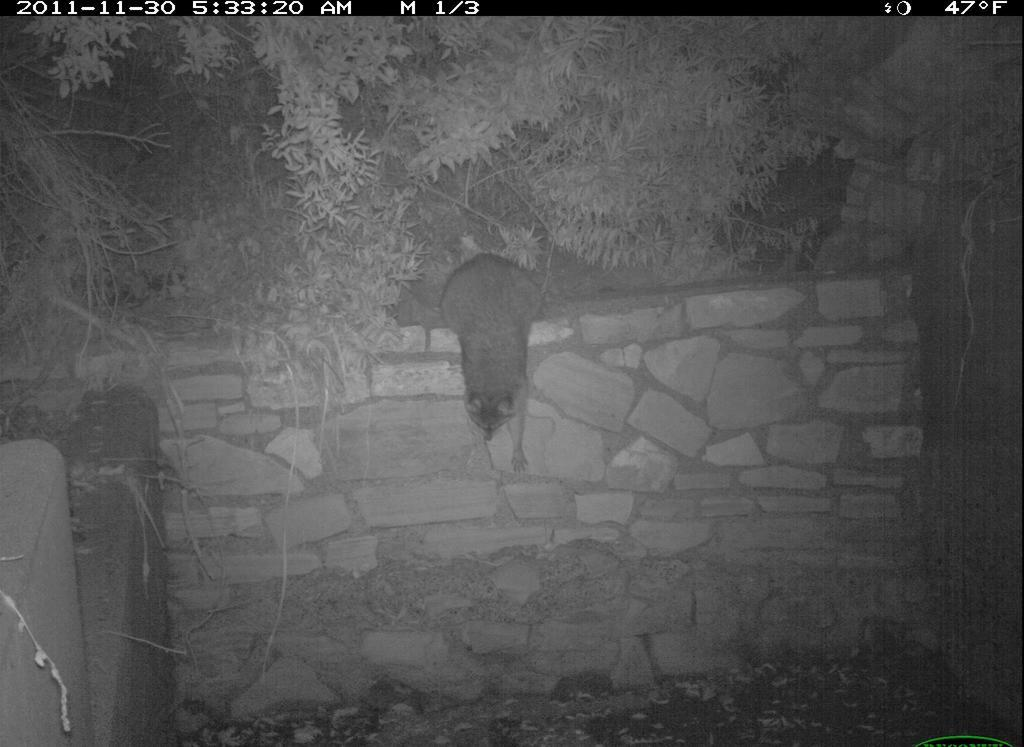raccoon: (425, 245, 550, 481)
